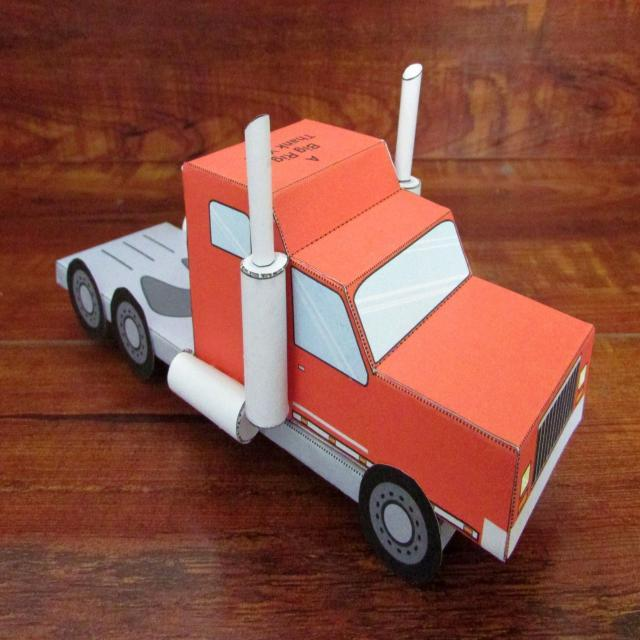traffic light: (55, 61, 595, 584)
